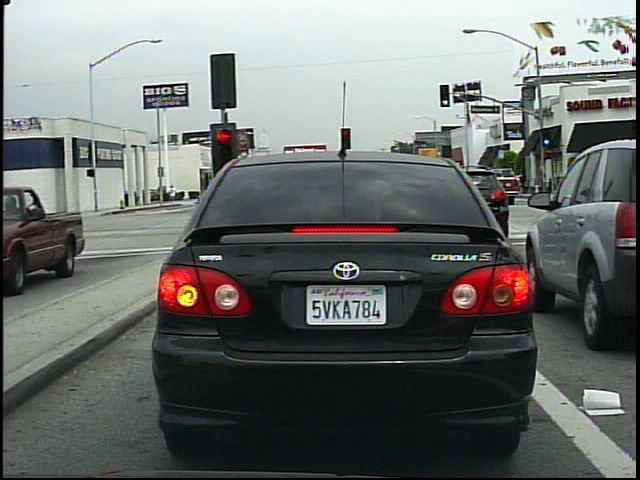person: (517, 166, 530, 195), (167, 180, 180, 206)
